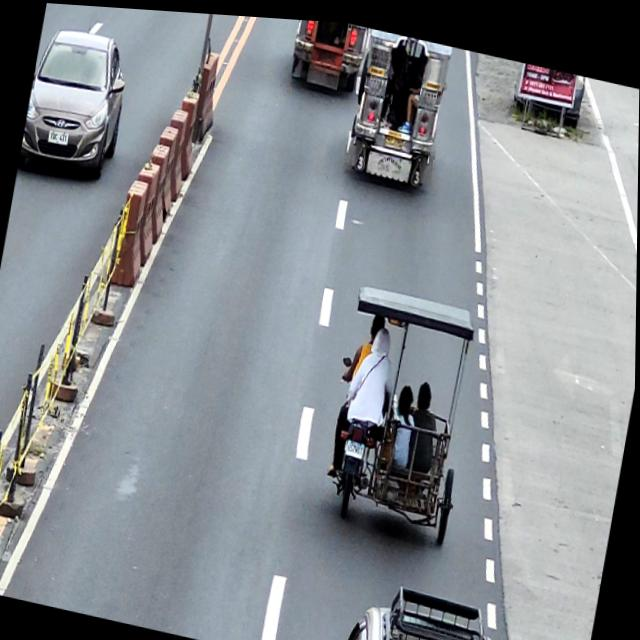Car: (19, 20, 135, 186), (318, 565, 534, 640)
Jeep: (345, 22, 454, 189), (288, 15, 369, 93)
License-Plate: (346, 435, 366, 453), (48, 130, 70, 146), (384, 129, 405, 145)
Tricycle: (322, 276, 488, 540)
